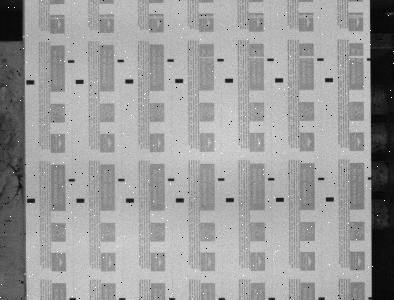backgroundclutter: (21, 280, 24, 284)
incorrect qblock: (368, 177, 373, 180), (367, 58, 371, 61), (369, 297, 373, 300)
qblock: (26, 80, 35, 85), (125, 79, 134, 84), (175, 78, 184, 83), (225, 78, 234, 83), (76, 198, 85, 203), (27, 198, 35, 203), (76, 79, 84, 84), (325, 78, 334, 82), (275, 78, 284, 82), (326, 197, 335, 201)
smallqblock: (276, 197, 285, 202), (176, 198, 185, 203), (226, 197, 235, 202), (126, 198, 134, 203), (217, 58, 225, 62), (318, 296, 325, 300), (68, 178, 75, 182), (268, 177, 275, 181), (69, 297, 76, 300), (68, 60, 75, 63), (118, 297, 125, 300), (268, 297, 275, 300), (168, 297, 175, 300), (218, 297, 225, 300), (167, 59, 174, 62), (118, 178, 125, 181), (218, 178, 225, 181), (318, 177, 325, 180), (168, 178, 175, 181), (118, 59, 124, 62), (318, 58, 324, 61), (268, 58, 274, 61)
